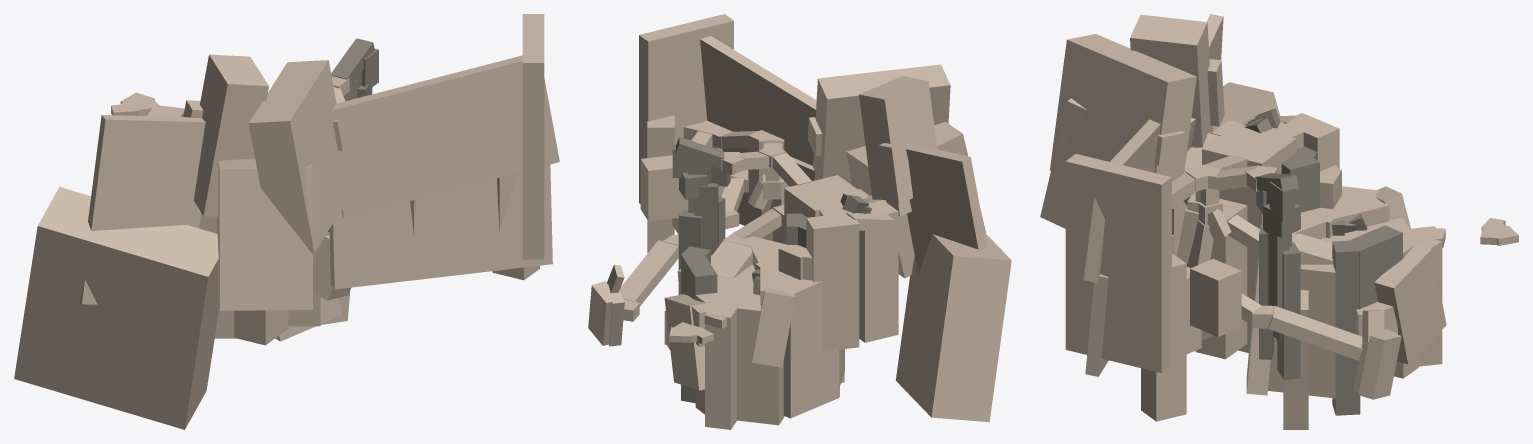
Rendered from p_PillarSafe.fbx.
3 views of the same model, side by side, from view 1: azimuth 30°, elevation 25°; view 2: azimuth 150°, elevation 25°; view 3: azimuth 270°, elevation 25° (orthographic). The views are drawn at different scales.
Parts seen in each view (by area): view 1: Wall_Smell__48_, Wall_Smell__28_, Wall_Smell__58_, Wall_Smell__37_, Wall_Smell__31_, Wall_Smell__35_, Wall_Smell__36_, Wall_Smell__110_, Wall_Smell__34_, Wall_Smell__37__1, SmellRamp_1__9_, Wall_Smell__33__1 (+3 smaller); view 2: Wall_Smell__48_, Wall_Smell__28_, Wall_Smell__110_, Wall_Smell__31_, Wall_Smell__37_, Wall_Smell__46_, Wall_Smell__2_, Wall_Smell__36_, Wall_Smell__42_, Wall_Smell__1_, Wall_Smell__9_, Wall_Smell__35_ (+35 smaller); view 3: Wall_Smell__110_, Wall_Smell__37_, Wall_Smell__82_, Wall_Smell__36_, Wall_Smell__17_, Wall_Smell__113_, Wall_Smell__6_, Wall_Smell__3_, Wall_Smell__114_, Wall_Smell__28_, Wall_Smell__33__1, Wall_Smell (+38 smaller).
Boxes of the visible parts, box(x1,y1,x2,y2) form: Wall_Smell__48_: box(14, 187, 219, 429); Wall_Smell__28_: box(331, 55, 559, 217); Wall_Smell__58_: box(329, 164, 552, 289); Wall_Smell__37_: box(248, 60, 347, 252); Wall_Smell__31_: box(79, 115, 205, 304); Wall_Smell__35_: box(216, 158, 312, 310); Wall_Smell__36_: box(193, 54, 268, 216); Wall_Smell__110_: box(522, 14, 544, 259); Wall_Smell__34_: box(234, 310, 288, 345); Wall_Smell__37__1: box(313, 235, 350, 300); SmellRamp_1__9_: box(331, 38, 374, 88); Wall_Smell__33__1: box(288, 243, 320, 326); Wall_Smell__48_: box(895, 232, 1011, 422); Wall_Smell__28_: box(700, 36, 816, 165); Wall_Smell__110_: box(639, 14, 733, 203); Wall_Smell__31_: box(906, 143, 987, 274); Wall_Smell__37_: box(813, 64, 950, 184); Wall_Smell__46_: box(806, 212, 859, 351); Wall_Smell__2_: box(775, 279, 839, 418); Wall_Smell__36_: box(859, 76, 937, 216); Wall_Smell__42_: box(859, 200, 898, 342); Wall_Smell__1_: box(708, 295, 784, 425); Wall_Smell__9_: box(705, 305, 736, 429); Wall_Smell__35_: box(846, 122, 986, 278); Wall_Smell__110_: box(1065, 154, 1171, 372); Wall_Smell__37_: box(1050, 34, 1196, 208); Wall_Smell__82_: box(1374, 243, 1446, 364); Wall_Smell__36_: box(1130, 14, 1213, 147); Wall_Smell__17_: box(1202, 124, 1296, 299); Wall_Smell__113_: box(1141, 253, 1186, 421); Wall_Smell__6_: box(1332, 240, 1360, 415); Wall_Smell__3_: box(1268, 264, 1335, 398); Wall_Smell__114_: box(1190, 258, 1241, 336); Wall_Smell__28_: box(1083, 119, 1160, 282); Wall_Smell__33__1: box(1195, 198, 1247, 359); Wall_Smell: box(1342, 225, 1402, 308).
Size of the model in its own units: 7518 by 5211 by 6907.
